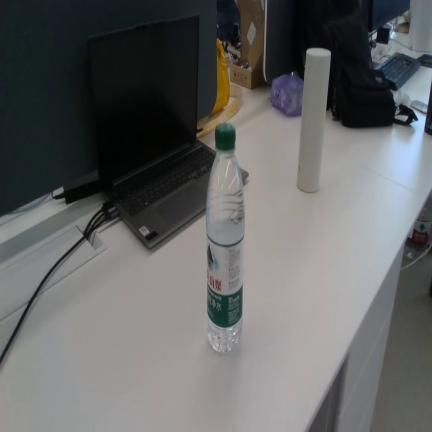bottle: (206, 123, 245, 353)
